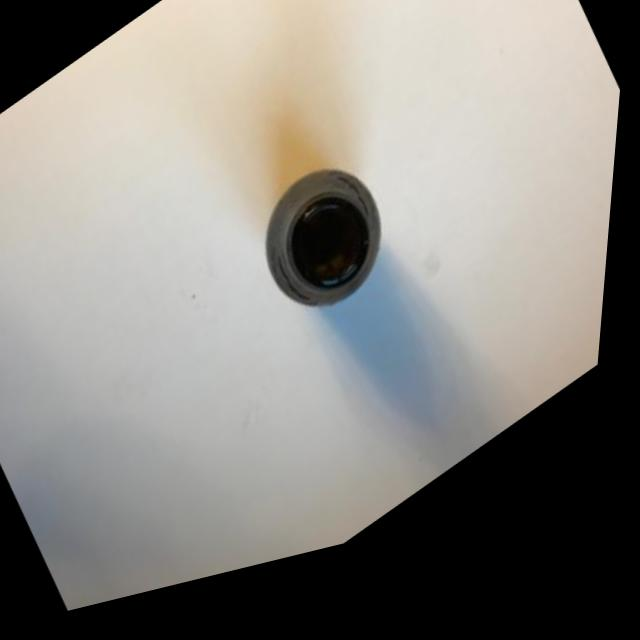glass: (177, 74, 487, 432)
